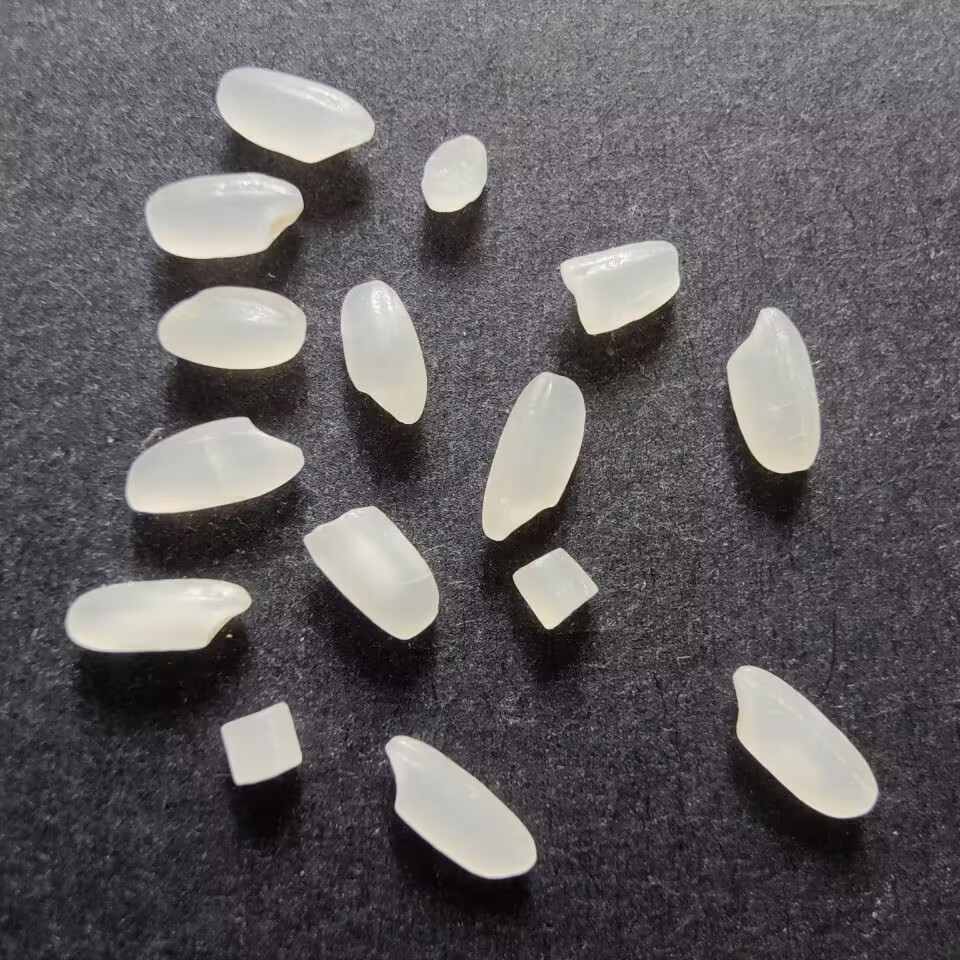broken: (299, 501, 445, 643), (554, 238, 686, 342), (509, 542, 601, 639), (215, 697, 305, 790), (418, 133, 492, 218)
rice: (722, 660, 886, 824), (378, 733, 540, 884), (122, 410, 309, 517), (478, 368, 589, 546), (723, 302, 825, 480), (212, 64, 379, 167), (60, 572, 255, 659), (140, 169, 307, 263), (337, 276, 429, 426), (154, 284, 307, 373)
